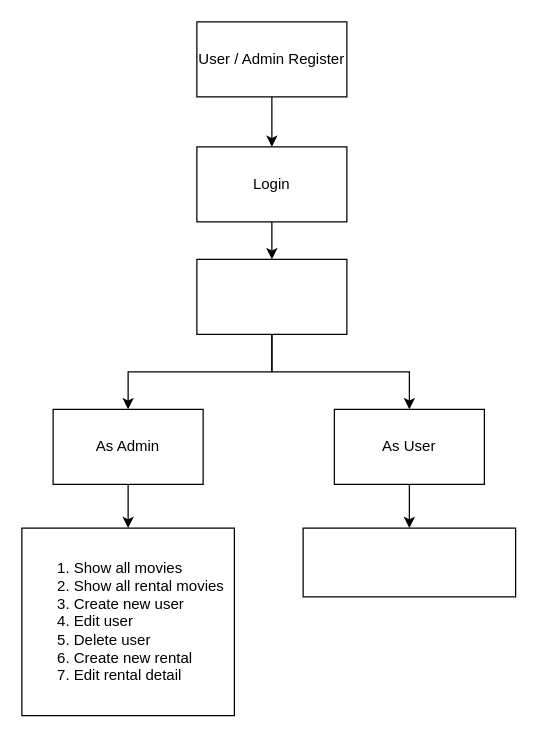
This 538x738 diagram has some shape labels left out. Each missing label, with the centre of its shape:
"New token" belongs at (x=271, y=296).
"Show all movies Show only user's rental" belongs at (x=409, y=562).
